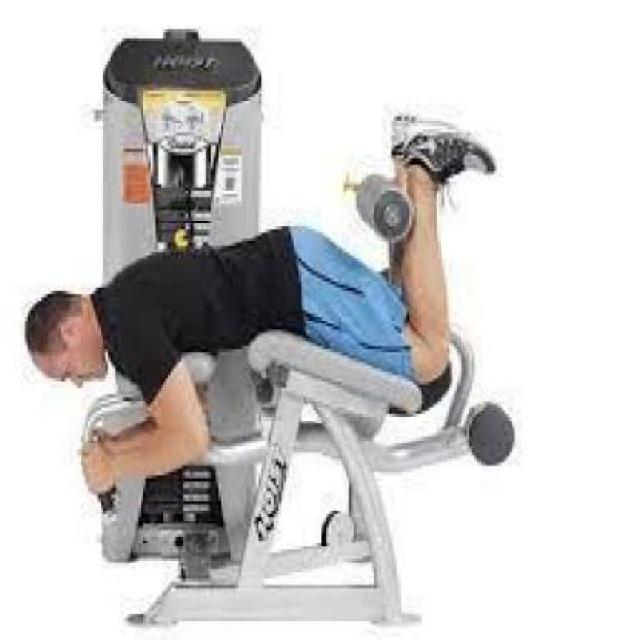reg curl machine: (20, 34, 522, 629)
